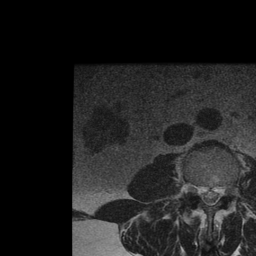CCS_normal: (207, 179, 213, 211)
LFS_normal: (221, 180, 229, 202)
LLS_normal: (213, 182, 221, 206)
RFS_normal: (192, 178, 199, 201)
RLS_normal: (199, 181, 207, 205)
